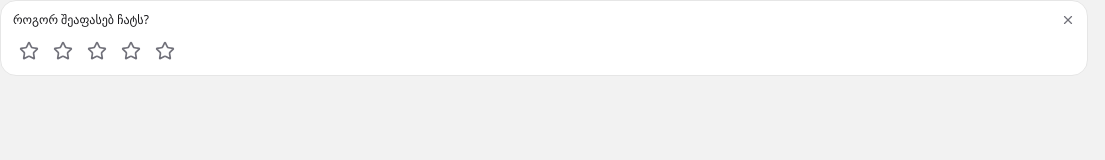
Test: ChatRating row › star → comment → send inserts rating+comment once, then thanks; never again for the session
Click the radio button named "4 ვარსკვლავი" at (131, 51), box [115,35,147,67]
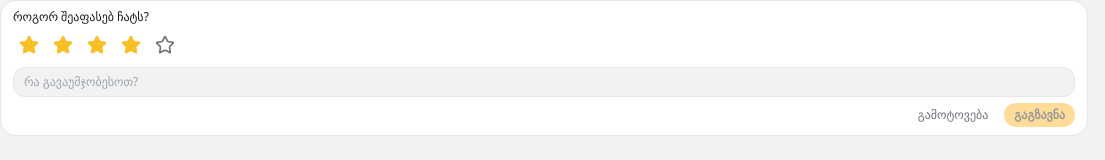
Type "  მეტი ფოტო  " into the field with placeholder "რა გავაუმჯობესოთ?" at (544, 82), box [13,67,1075,97]
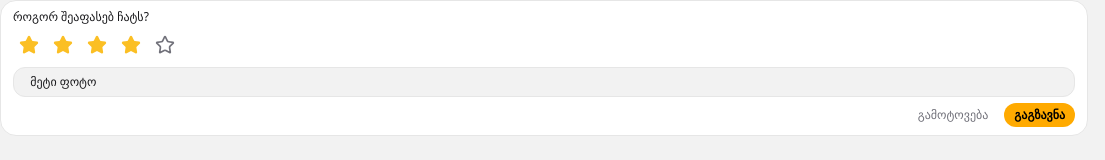
Click the button "გაგზავნა" at (1040, 115), box [1004,103,1075,127]
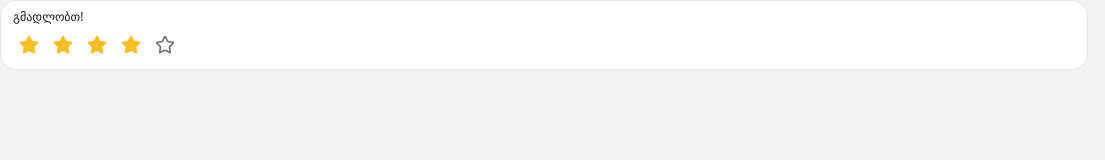
expect the text "გმადლობთ!" is shown: met, box [13,9,83,25]
